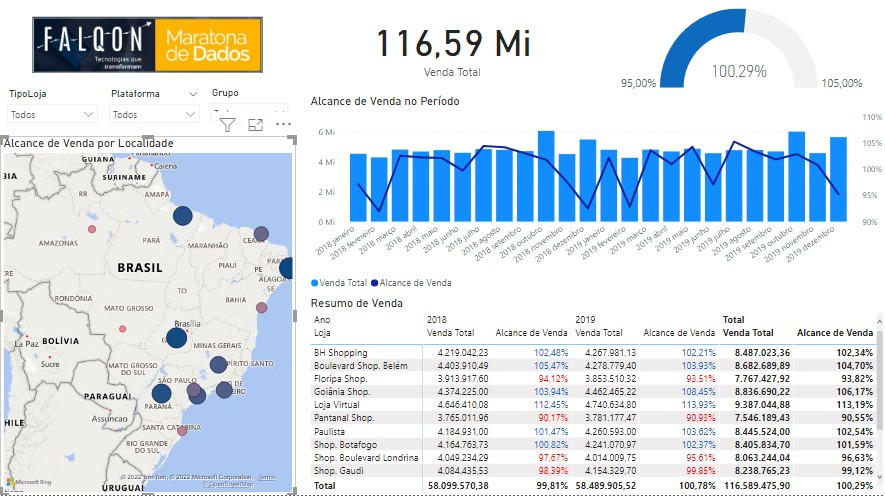

What the dashboard file says about the page in this screenshot:
{"tool":"powerbi","page":{"name":"Página 1","canvas":[1280,720],"ordinal":0},"visuals":[{"type":"pivotTable","title":"Resumo de Venda","fields":{"Rows":["kronos_dw dim_loja.RazaoSocial"],"Columns":["kronos_dw fato_venda_custo.Data.Variation.Hierarquia de datas.Ano","kronos_dw fato_venda_custo.Data.Variation.Hierarquia de datas.Mês"],"Values":["Medidas.Venda Total","Medidas.Alcance de Venda"]},"box":[443.6,432.9,836.4,288],"z":0},{"type":"lineStackedColumnComboChart","title":"Alcance de Venda no Período","fields":{"Category":["kronos_dw fato_venda_custo.Data.Variation.Hierarquia de datas.Ano","kronos_dw fato_venda_custo.Data.Variation.Hierarquia de datas.Mês"],"Y":["Medidas.Venda Total"],"Y2":["Medidas.Alcance de Venda"]},"box":[443.6,141.3,836.4,291.6],"z":1000},{"type":"map","fields":{"Size":["Medidas.Alcance de Venda"],"Category":["kronos_dw dim_loja.Localidade"]},"box":[0,201.8,427,519.1],"z":2000},{"type":"card","fields":{"Values":["Medidas.Venda Total"]},"box":[443.6,0,418.7,141.3],"z":3000},{"type":"gauge","fields":{"Y":["Medidas.Alcance de Venda"],"MaxValue":["Medida.LimMaxAlcance"],"MinValue":["Medida.LimMinAlcance"]},"box":[862.1,12.6,417.9,129],"z":4000},{"type":"image","box":[41.7,12.6,342.3,115.4],"z":5000},{"type":"slicer","fields":{"Values":["kronos_dw dim_loja.TipoLoja"]},"box":[0,128.1,150.7,73.7],"z":6000},{"type":"slicer","fields":{"Values":["kronos_dw dim_produto.Plataforma"]},"box":[146.5,128.1,150.7,73.7],"z":7000},{"type":"slicer","fields":{"Values":["kronos_dw dim_produto.Grupo"]},"box":[293.3,127.1,133.3,74.7],"z":8000}]}

Visuals, with their boxes in screenshot pixels (x1, y1, x2, y2), scaled from the page's 1280x720 canvas onto the 885x496 screenshot:
"Resumo de Venda" pivotTable: bbox=[307, 298, 884, 495]
"Alcance de Venda no Período" lineStackedColumnComboChart: bbox=[307, 97, 884, 298]
map - Medidas.Alcance de Venda x kronos_dw dim_loja.Localidade: bbox=[0, 139, 295, 495]
card - Medidas.Venda Total: bbox=[307, 0, 596, 97]
gauge - Medidas.Alcance de Venda x Medida.LimMaxAlcance: bbox=[596, 9, 884, 98]
image: bbox=[29, 9, 266, 88]
slicer - kronos_dw dim_loja.TipoLoja: bbox=[0, 88, 104, 139]
slicer - kronos_dw dim_produto.Plataforma: bbox=[101, 88, 205, 139]
slicer - kronos_dw dim_produto.Grupo: bbox=[203, 88, 295, 139]
